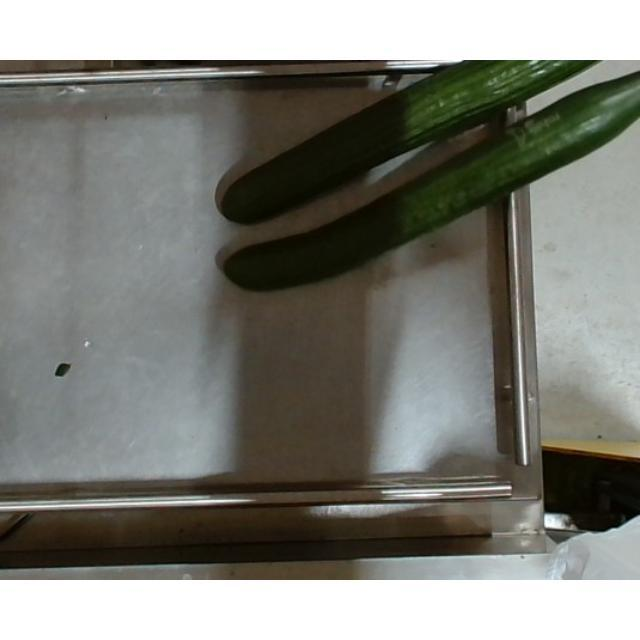cucumber: (224, 70, 638, 292), (221, 61, 603, 225)
